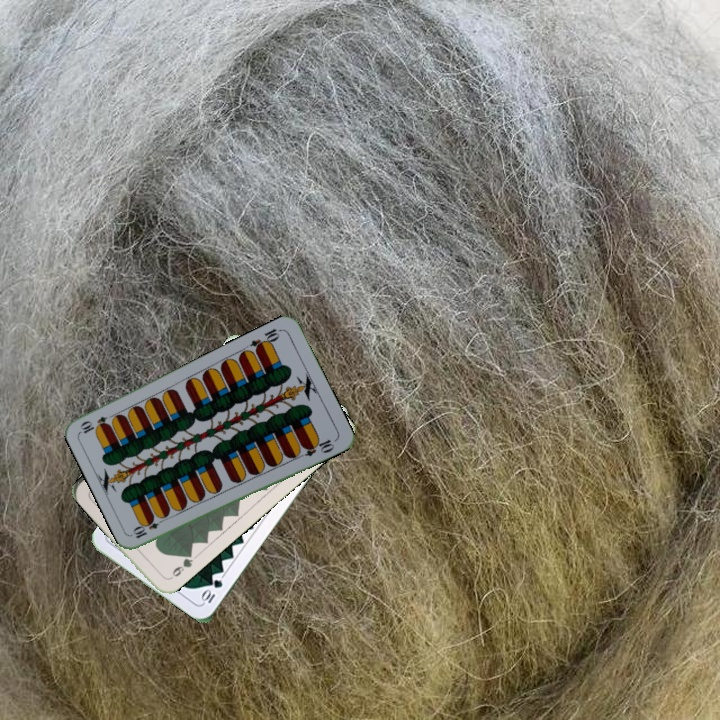E10: (246, 324, 284, 354), (129, 513, 168, 541)
G10: (198, 575, 225, 606)
G9: (164, 548, 196, 582)
